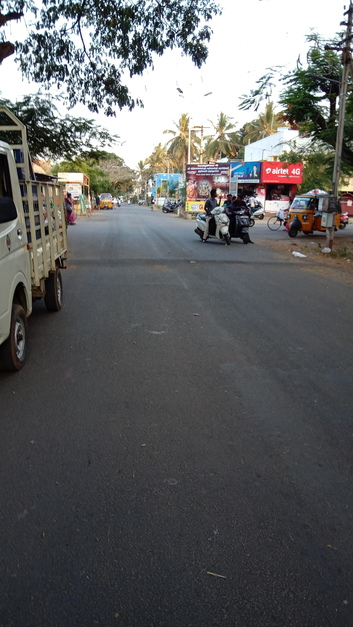bump: (65, 255, 327, 269)
